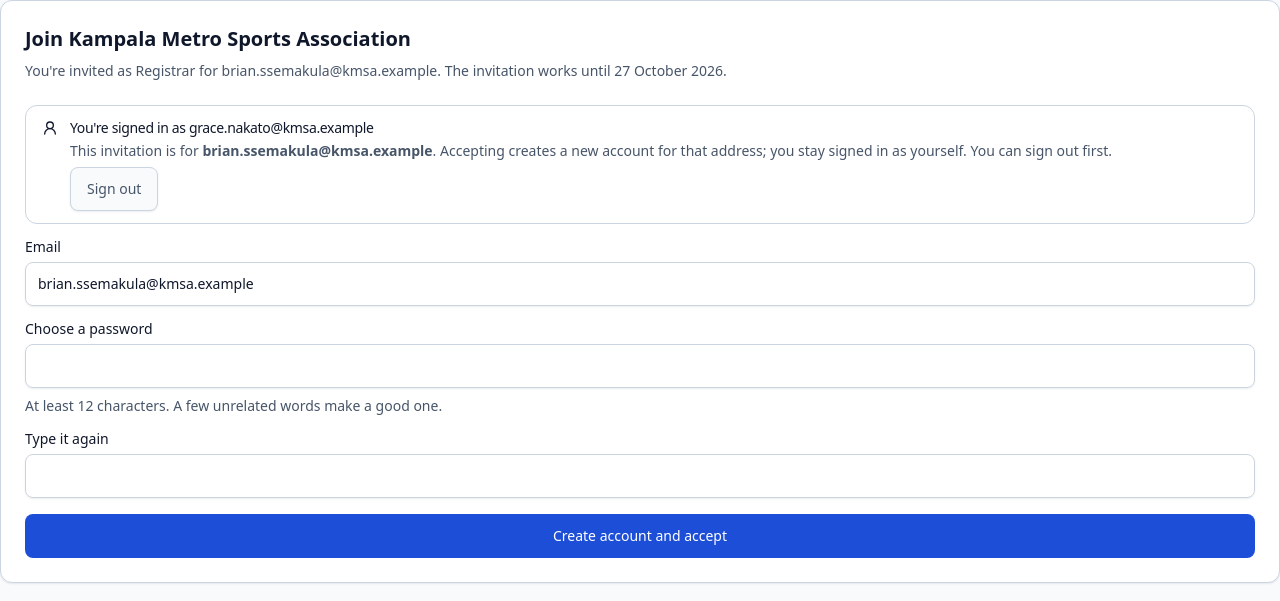
Scenario: AcceptInvitation › signing out of another account keeps the invitation open for a new account
Click the button "Sign out" at coordinates (114, 189), box [70,167,158,211]
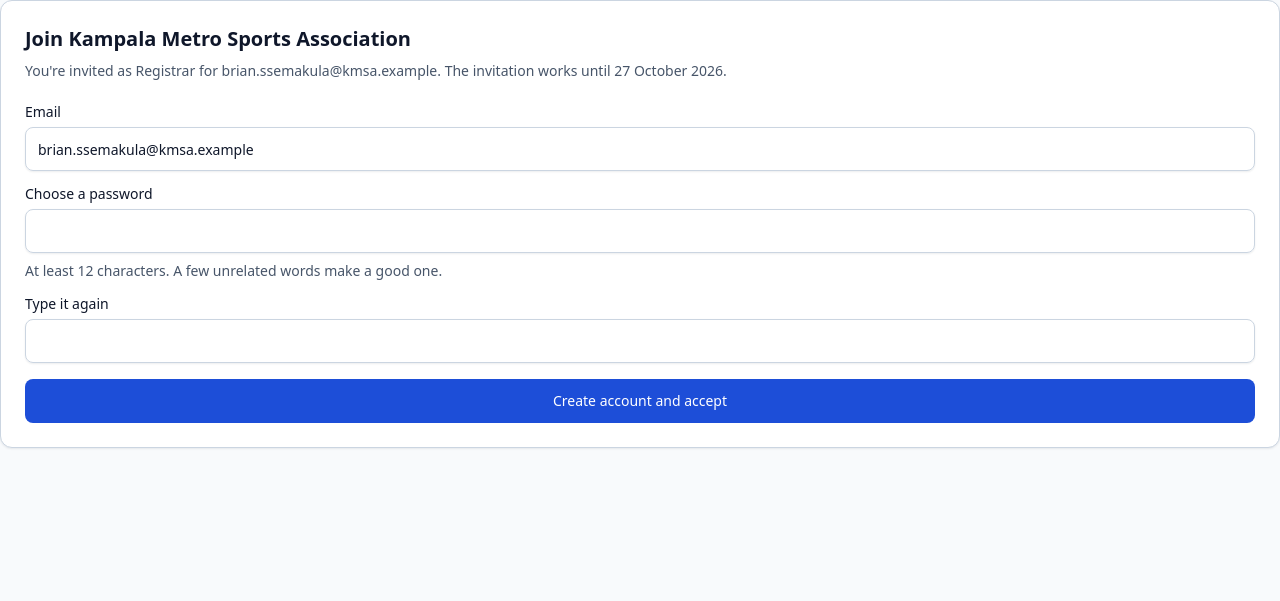
Expected: the password field labelled "Choose a password" is shown, [25,209,1255,253]
Result: the text "You're signed in as" is gone
